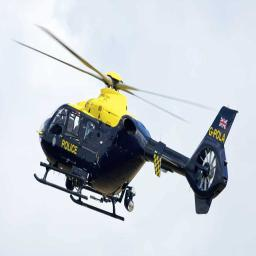helicopter: (12, 26, 240, 222)
